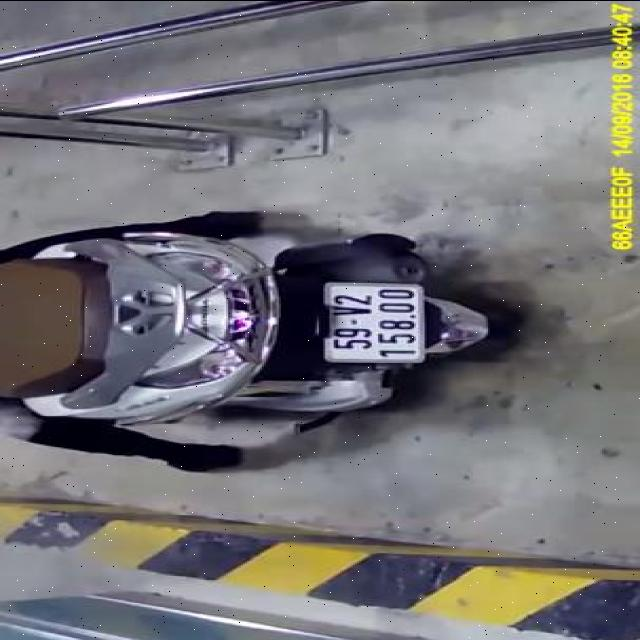license_plate: (322, 282, 428, 366)
